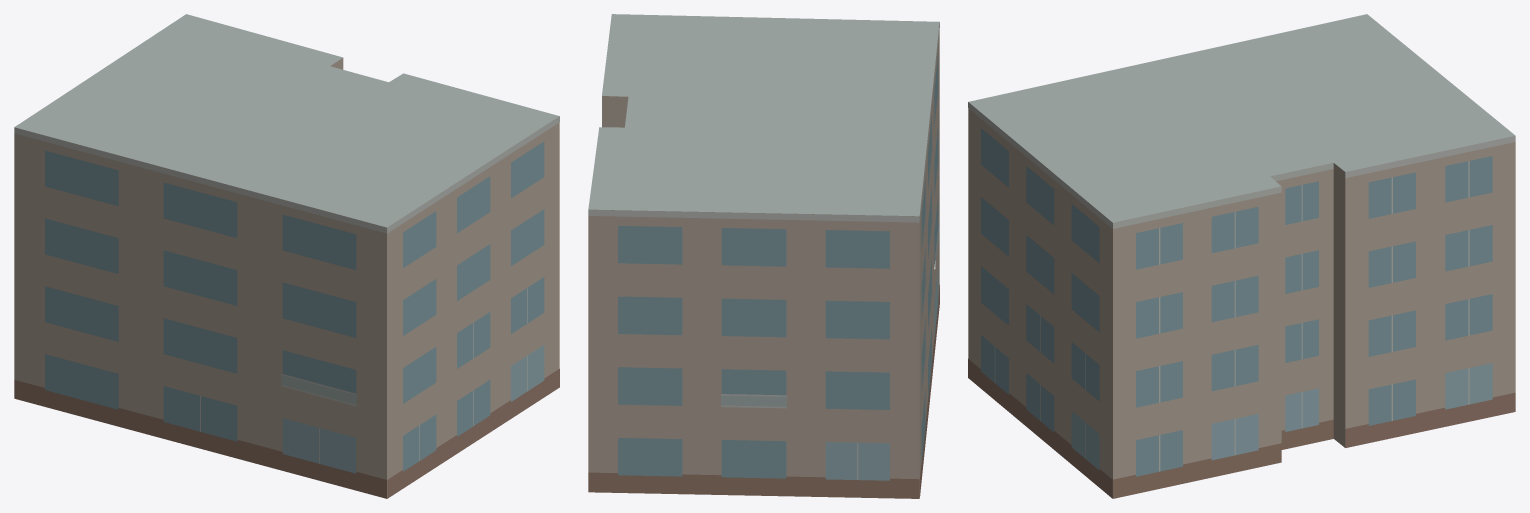
The model's file is survey-upis-32828632.glb.
The picture shows the model from 3 angles, left to right: view 1: azimuth 30°, elevation 25°; view 2: azimuth 150°, elevation 25°; view 3: azimuth 270°, elevation 25°; orthographic projection. The views are drawn at different scales.
Visible parts, largest first — view 1: survey-upis-32828632.tmp; view 2: survey-upis-32828632.tmp; view 3: survey-upis-32828632.tmp.
Boxes of the visible parts, bbox=[...] form: survey-upis-32828632.tmp: bbox=[14, 14, 559, 498]; survey-upis-32828632.tmp: bbox=[588, 14, 939, 498]; survey-upis-32828632.tmp: bbox=[968, 14, 1515, 498].
Size of the model in its own units: 17.69 by 10.9 by 19.6.
